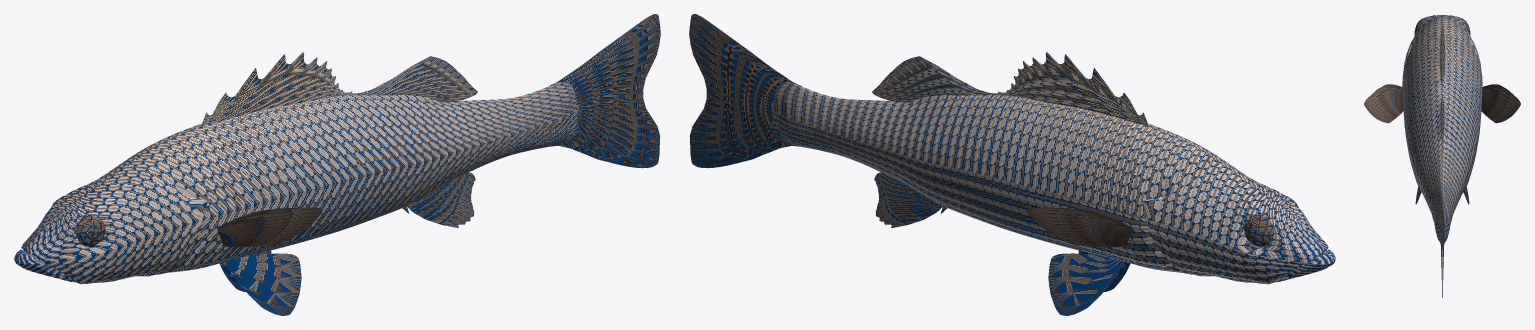
Rendered from Suzuki0.obj.
3 renders of one model, left to right at view 1: azimuth 30°, elevation 25°; view 2: azimuth 150°, elevation 25°; view 3: azimuth 270°, elevation 25°, orthographic. The views are drawn at different scales.
Parts seen in each view (by area): view 1: object, object10, object2, object7, object5, object3, object8, object12; view 2: object, object10, object2, object6, object4, object3, object8, object11; view 3: object, object5, object4, object2, object10, object3.
Boxes of the visible parts, x1=… form: object: x1=14, y1=82, x2=578, y2=284; object10: x1=555, y1=14, x2=660, y2=168; object2: x1=201, y1=52, x2=359, y2=126; object7: x1=225, y1=253, x2=301, y2=315; object5: x1=217, y1=207, x2=322, y2=247; object3: x1=357, y1=56, x2=477, y2=102; object8: x1=407, y1=172, x2=475, y2=227; object12: x1=75, y1=215, x2=105, y2=246; object: x1=771, y1=82, x2=1335, y2=284; object10: x1=689, y1=14, x2=794, y2=168; object2: x1=990, y1=52, x2=1148, y2=126; object6: x1=1048, y1=253, x2=1124, y2=315; object4: x1=1027, y1=207, x2=1132, y2=247; object3: x1=872, y1=56, x2=992, y2=102; object8: x1=874, y1=172, x2=942, y2=227; object11: x1=1244, y1=215, x2=1274, y2=246; object: x1=1402, y1=15, x2=1482, y2=248; object5: x1=1364, y1=84, x2=1403, y2=123; object4: x1=1481, y1=84, x2=1520, y2=123; object2: x1=1439, y1=19, x2=1445, y2=88; object10: x1=1440, y1=201, x2=1444, y2=297; object3: x1=1440, y1=94, x2=1444, y2=151.
Bounding box in the file's own units: 0.4007 × 0.1459 × 0.109.
Materials: 1 (1 with a texture image).
